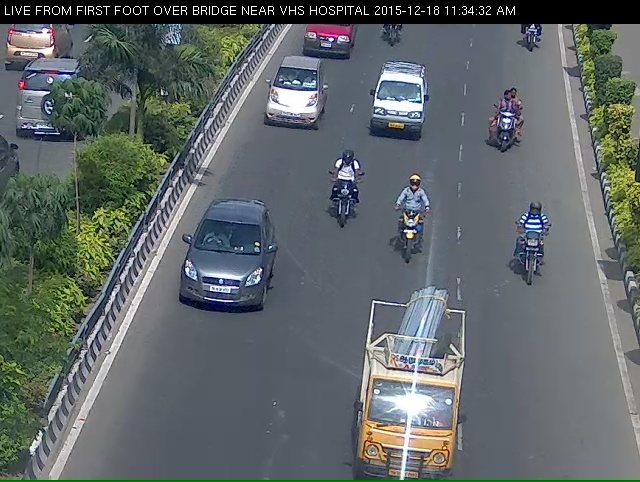Bus: (359, 312, 472, 481)
Car: (171, 215, 272, 348), (370, 58, 440, 160), (261, 65, 326, 143), (294, 18, 351, 65)
Person: (514, 216, 566, 324), (477, 103, 558, 171), (386, 186, 437, 291), (319, 164, 366, 253), (520, 23, 552, 62), (377, 19, 406, 57)
